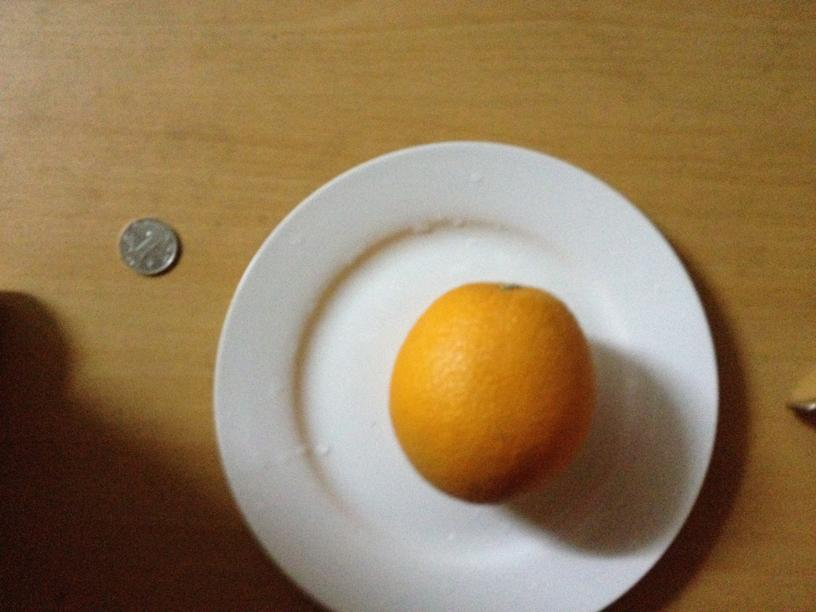coin: (115, 215, 181, 273)
orange: (388, 280, 593, 505)
